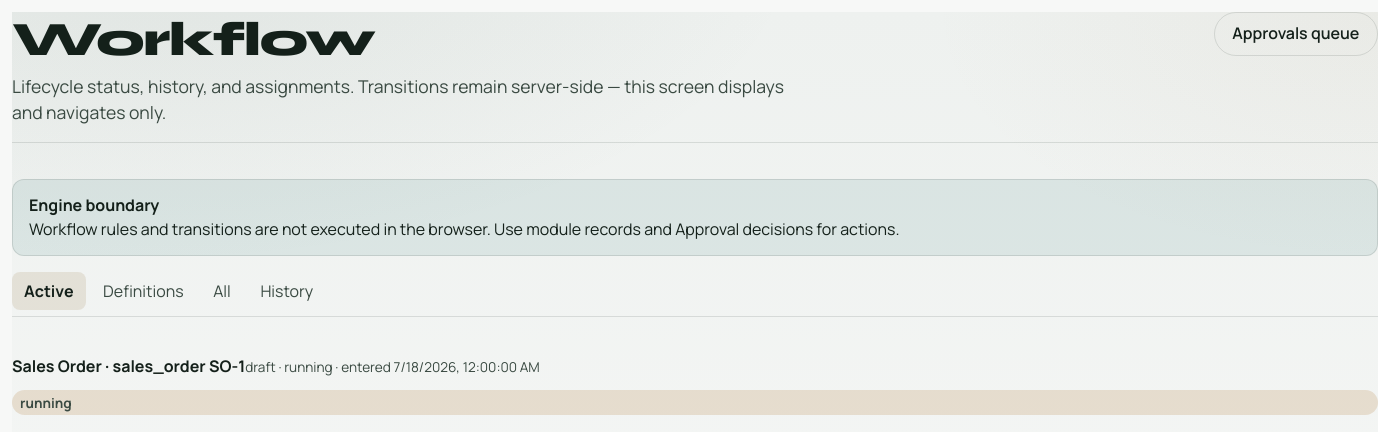
Scenario: WorkflowPage (RC6.3) › loads definitions and instances from operator queries
The image size is (1378, 432).
Check: the text "Sales Order · sales_order SO-1" is shown, box [12,354,245,378]
Click the tab "Definitions" at point(143, 291), box [91,272,196,310]
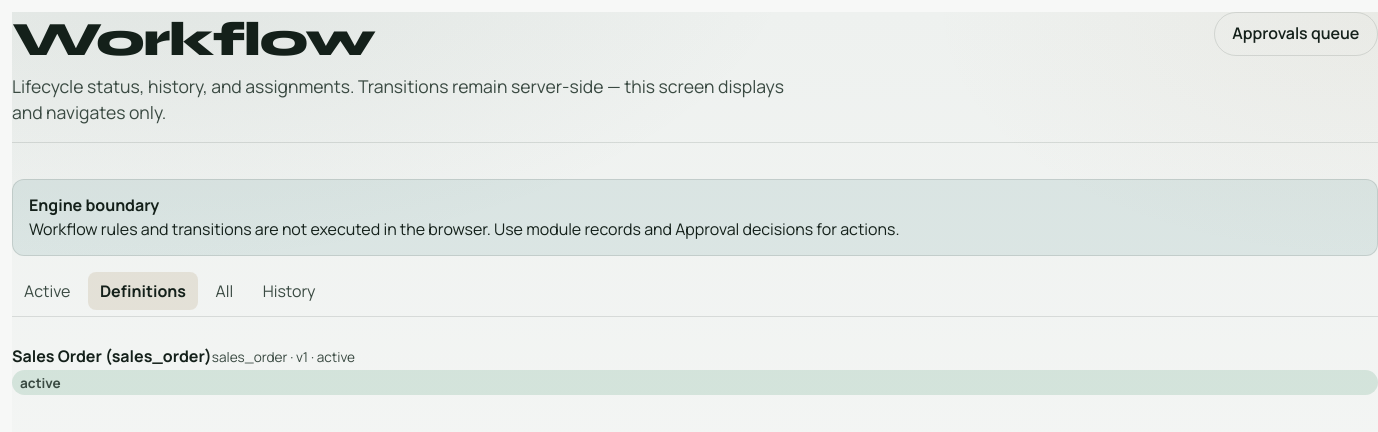
Check: the text "Sales Order (sales_order)" is shown, box [12,345,212,367]
